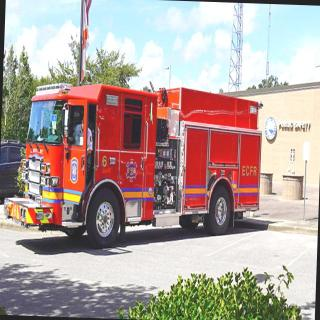Fire_truck: (2, 76, 264, 254)
